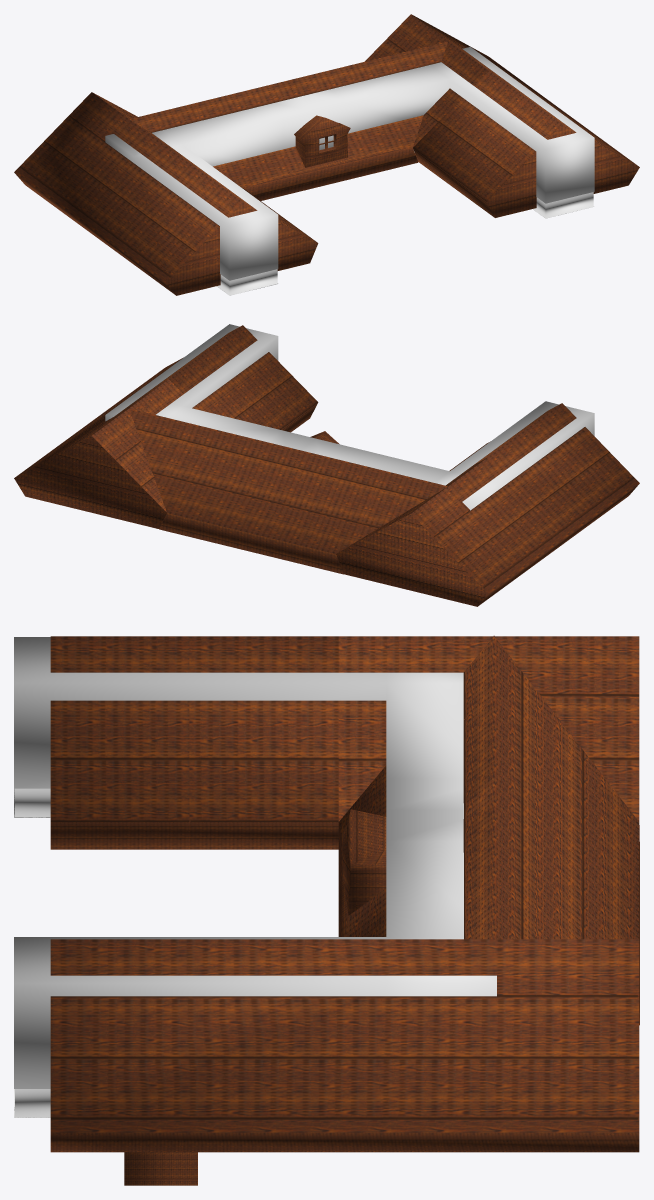
File: third_floor.fbx
3 renders of one model, top to bottom at view 1: azimuth 30°, elevation 25°; view 2: azimuth 150°, elevation 25°; view 3: azimuth 270°, elevation 25°, orthographic. The views are drawn at different scales.
Parts seen in each view (by area): view 1: obj2, obj3, obj1, obj4, obj5; view 2: obj3, obj4, obj1, obj2; view 3: obj1, obj2, obj3, obj4, obj5, obj7.
Part boxes in pixels (x1,y1,x2,y2): obj2: (105, 47, 594, 295); obj3: (14, 92, 318, 295); obj1: (93, 14, 639, 217); obj4: (128, 41, 447, 200); obj5: (294, 115, 350, 167); obj3: (336, 403, 639, 606); obj4: (129, 408, 448, 574); obj1: (14, 325, 486, 551); obj2: (105, 324, 594, 510); obj1: (50, 636, 639, 1152); obj2: (14, 637, 496, 1117); obj3: (50, 636, 338, 849); obj4: (338, 635, 639, 1025); obj5: (343, 809, 386, 915); obj7: (124, 1152, 197, 1185).
Size of the model in its own units: 1684 by 319 by 988.
2 materials, 1 textured.
